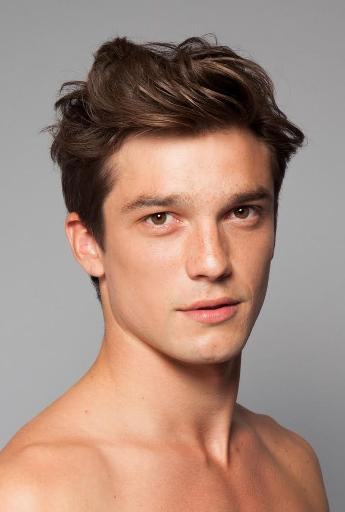left_eye: (223, 204, 267, 225)
left_lip_corner: (233, 298, 247, 311)
right_eye: (134, 211, 185, 233)
right_lip_corner: (173, 305, 189, 319)
